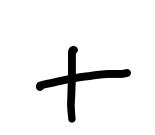plus: (36, 46, 130, 122)
